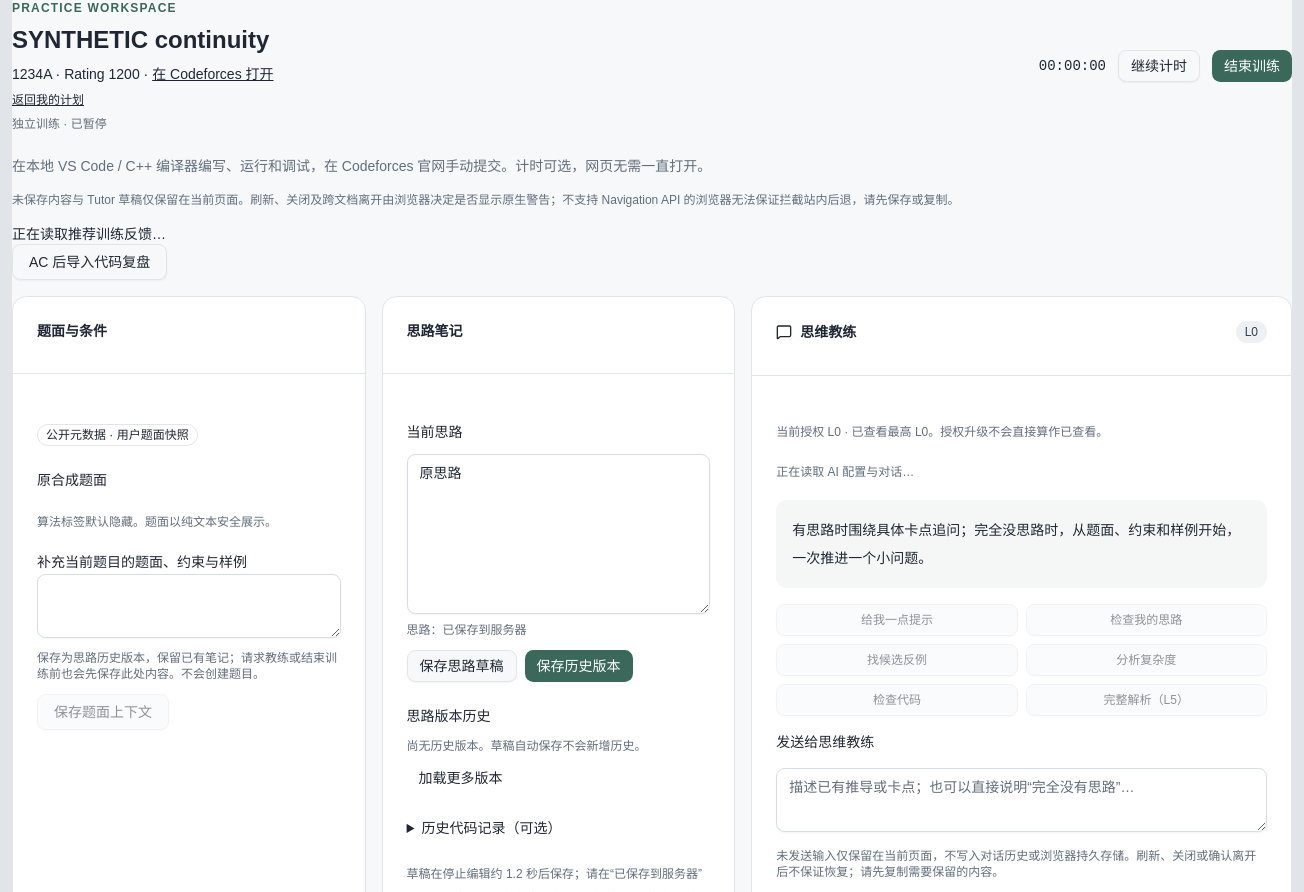
Test case: persists the latest supplemental context before a Tutor request; a production gate refusal preserves the message
This screenshot has width=1304, height=892.
Expected: the text box labelled "发送给思维教练" is enabled, [776,768,1267,832]
In the text box labelled "补充当前题目的题面、约束与样例": (189, 606) [37,574,341,638], type "给定 n<=10"
(page scrolled)
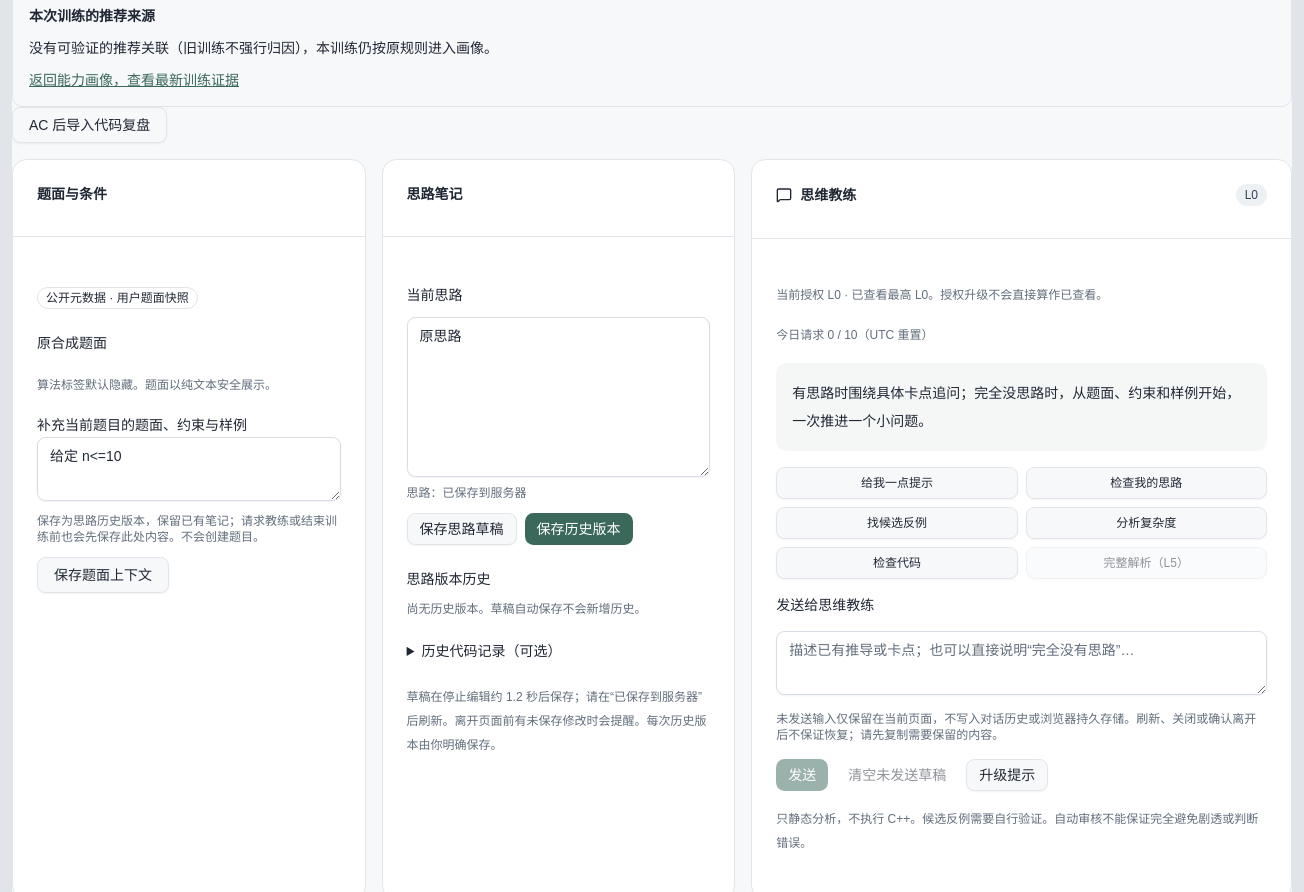
In the text box labelled "发送给思维教练": (1022, 663) [776,631,1267,695], type "请围绕条件提问"
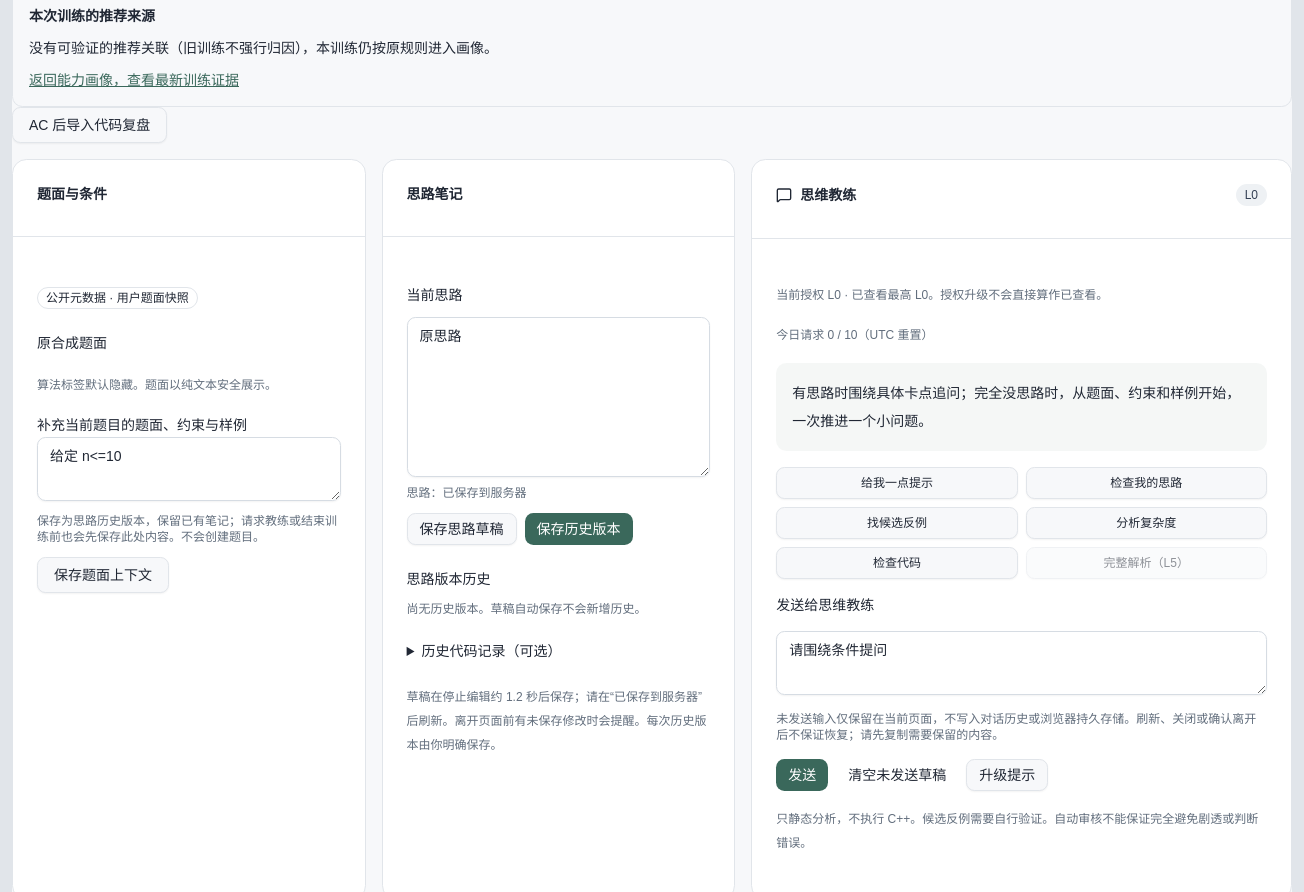
Click the button "发送": (802, 775) [776,759,828,791]
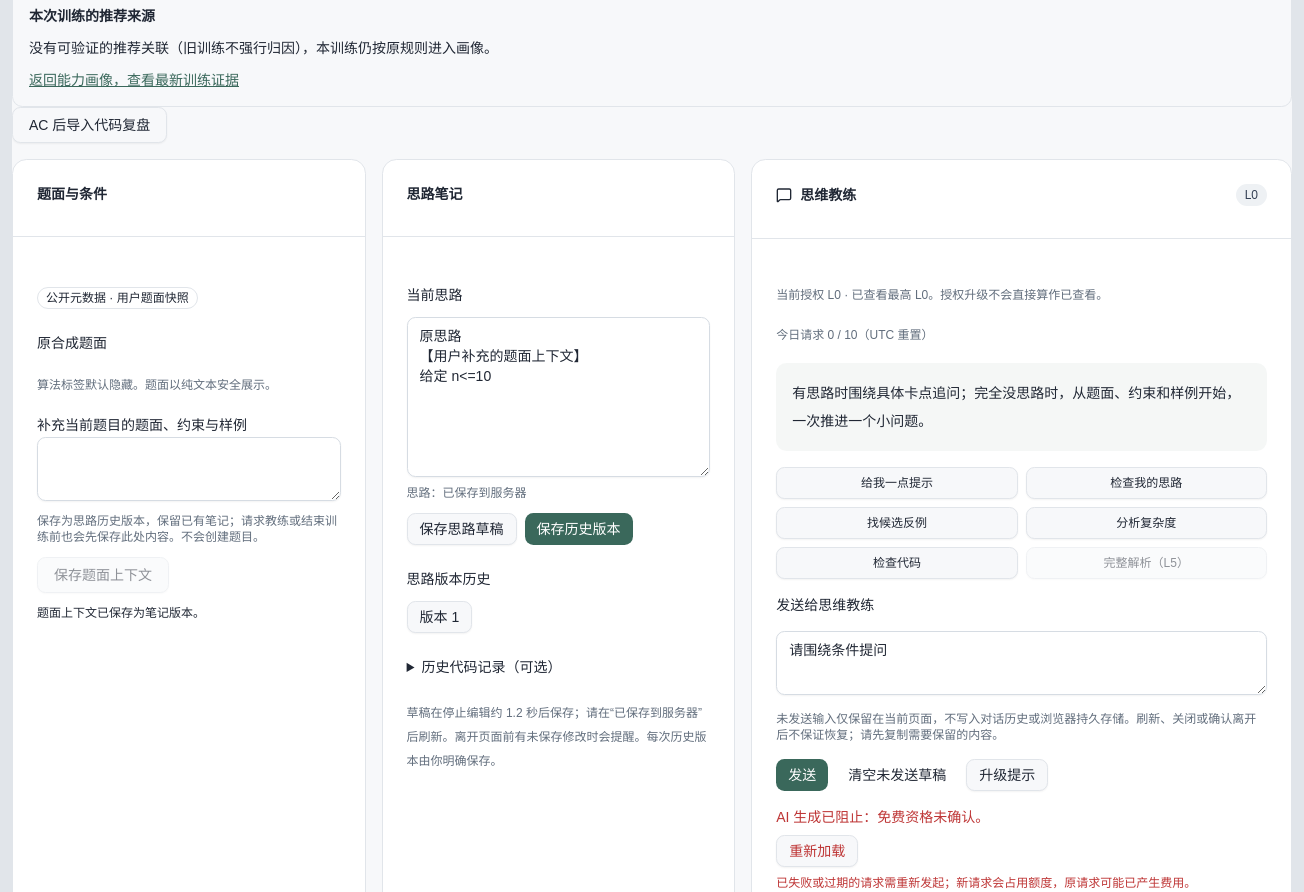
Result: the text "AI 生成已阻止：免费资格未确认。" is shown at [776,809,989,825]
